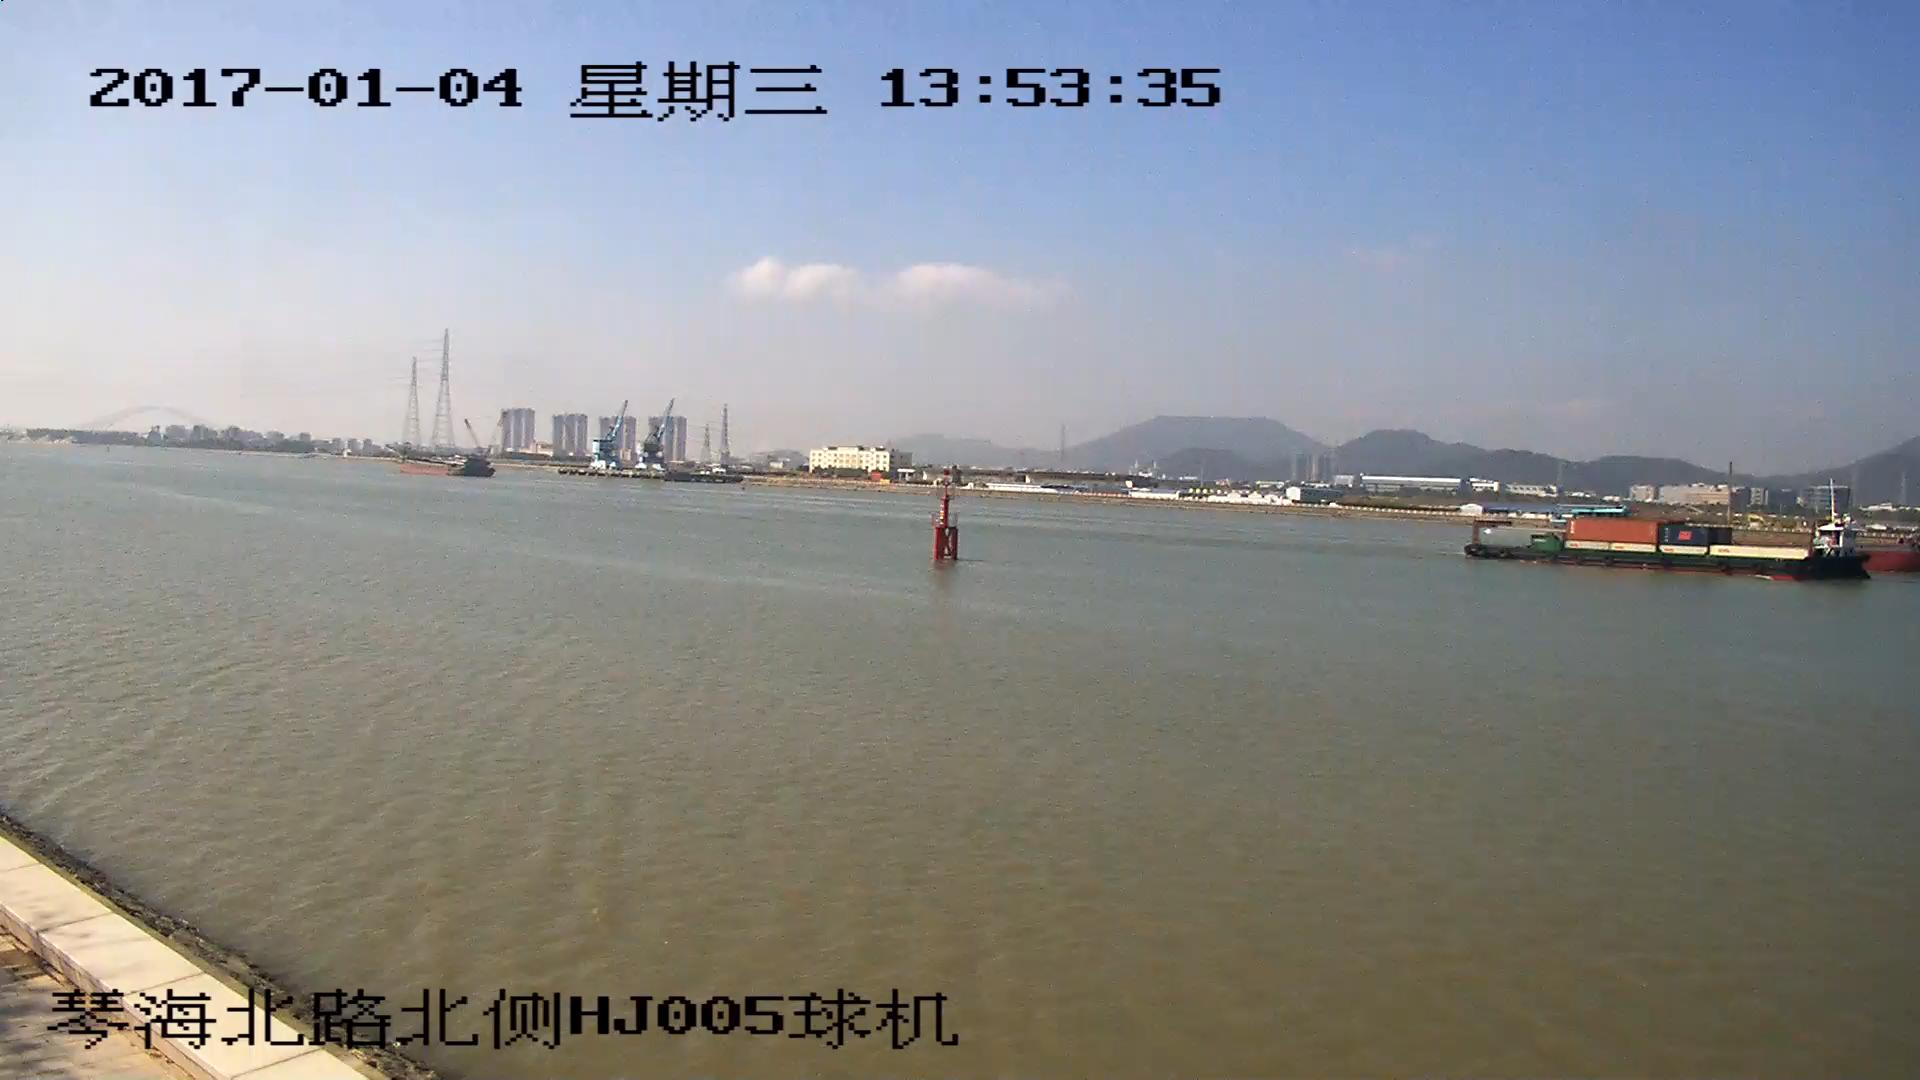container ship: (1479, 508, 1865, 577)
